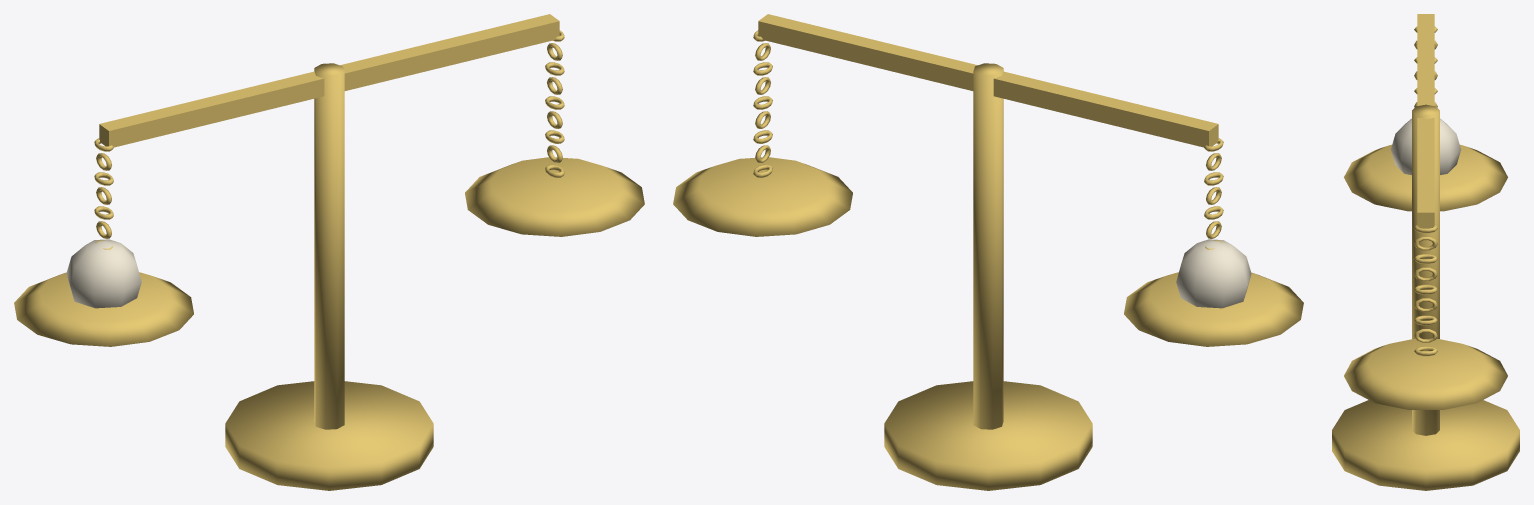
The model's file is apparatus_scales.glb.
The picture shows the model from 3 angles, left to right: view 1: azimuth 30°, elevation 25°; view 2: azimuth 150°, elevation 25°; view 3: azimuth 270°, elevation 25°; orthographic projection. The views are drawn at different scales.
Visible parts, largest first — view 1: GD_apparatus_scales__m0, GD_apparatus_scales__m1; view 2: GD_apparatus_scales__m0, GD_apparatus_scales__m1; view 3: GD_apparatus_scales__m0, GD_apparatus_scales__m1.
Boxes of the visible parts, x1=… form: GD_apparatus_scales__m0: x1=14, y1=14, x2=644, y2=490; GD_apparatus_scales__m1: x1=66, y1=239, x2=141, y2=308; GD_apparatus_scales__m0: x1=673, y1=14, x2=1303, y2=490; GD_apparatus_scales__m1: x1=1176, y1=239, x2=1251, y2=308; GD_apparatus_scales__m0: x1=1332, y1=14, x2=1519, y2=490; GD_apparatus_scales__m1: x1=1390, y1=118, x2=1461, y2=174.
Size of the model in its own units: 0.5365 by 0.32 by 0.16.
